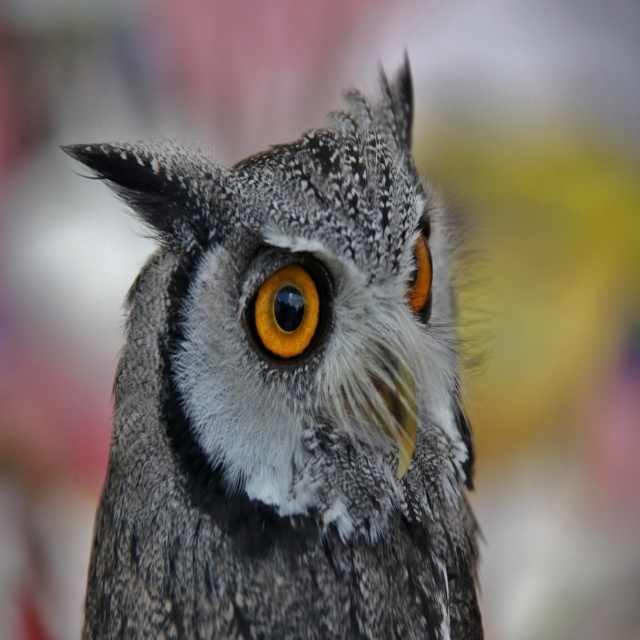Owl: (63, 47, 494, 639)
